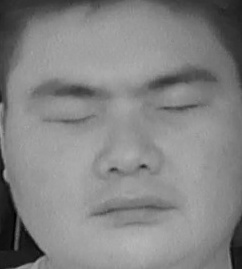blink: (43, 98, 97, 135), (154, 89, 202, 125)
mouth: (90, 188, 178, 234)
